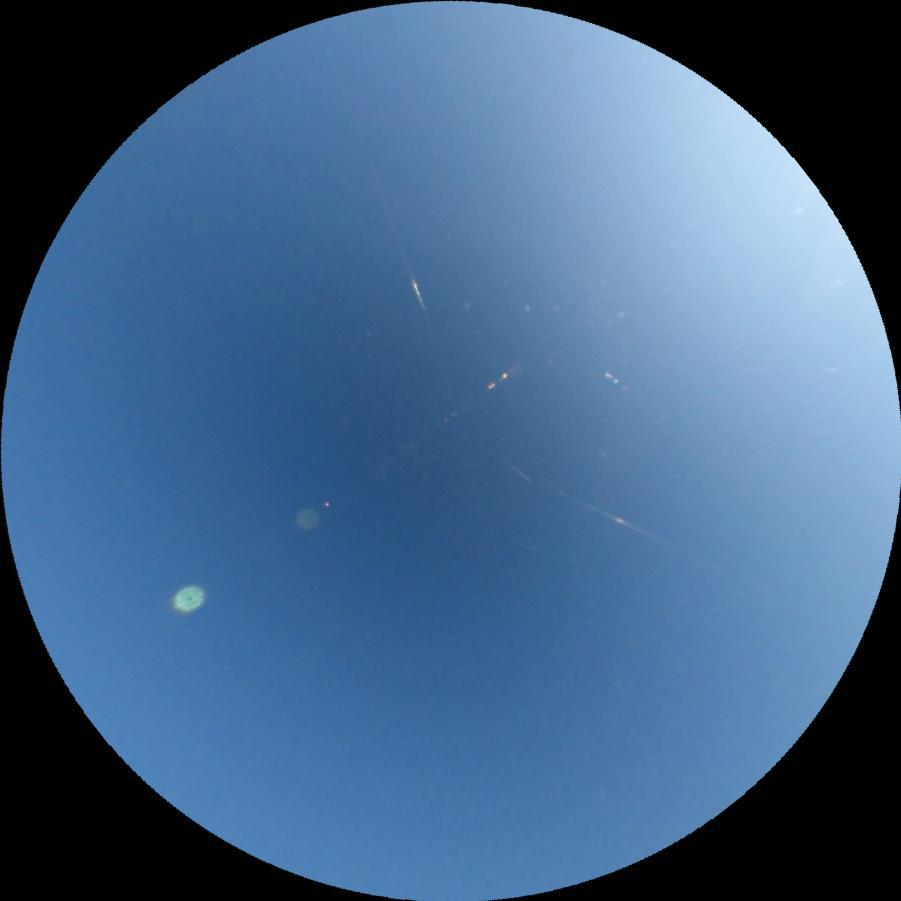contrail young: (811, 365, 837, 373)
parasite: (358, 145, 444, 361), (531, 476, 676, 551), (494, 454, 531, 482)
